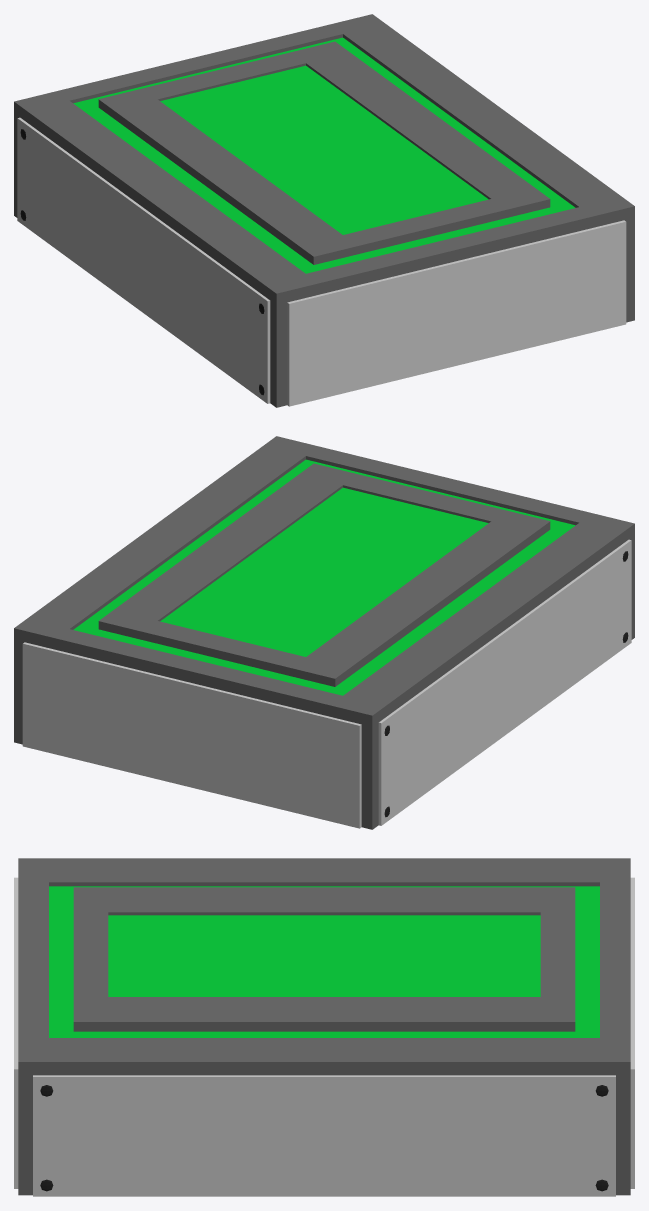
3 views of the same model, one above another, from view 1: azimuth 30°, elevation 25°; view 2: azimuth 150°, elevation 25°; view 3: azimuth 270°, elevation 25° (orthographic). The views are drawn at different scales.
Visible parts, largest first — view 1: Cube.006; view 2: Cube.006; view 3: Cube.006.
Boxes of the visible parts, x1,y1,x2,y2 form: Cube.006: (14, 14, 634, 407); Cube.006: (14, 436, 634, 829); Cube.006: (14, 858, 634, 1196).
Size of the model in its own units: 221 by 68.82 by 279.
